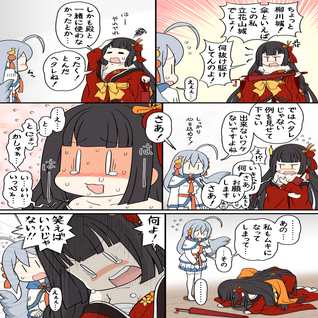bubble: (221, 103, 302, 160), (219, 2, 302, 41), (199, 38, 245, 86), (56, 3, 100, 50), (43, 51, 94, 89), (145, 112, 175, 150), (134, 214, 164, 249), (177, 77, 197, 101), (193, 279, 207, 304)
